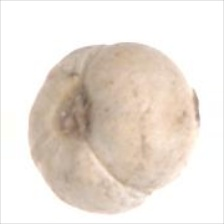L4: (29, 42, 201, 214)
